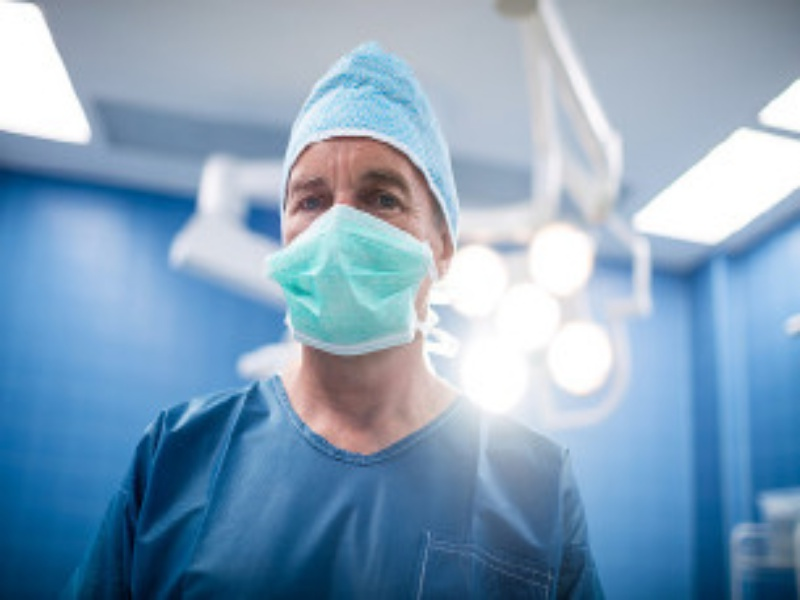mask: (270, 42, 467, 367)
